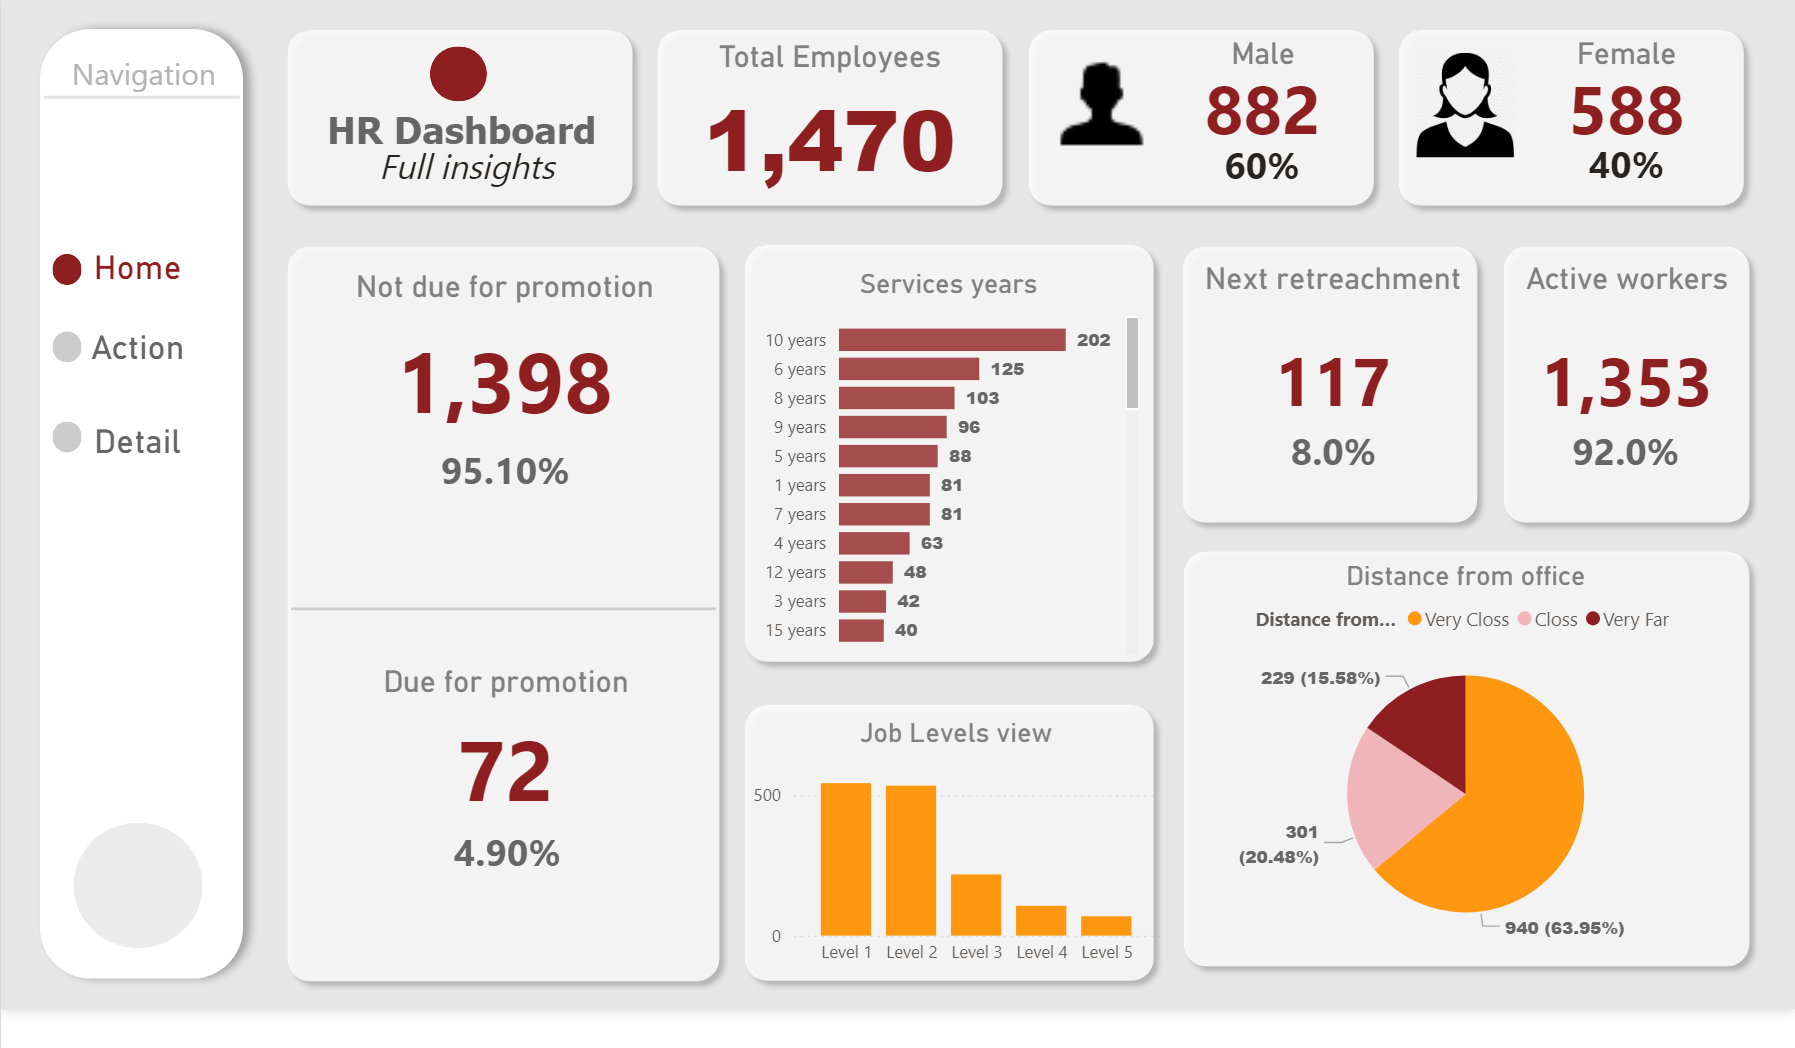

The page's visual inventory and layout, read from the dashboard file:
{"tool":"powerbi","page":{"name":"Home","canvas":[1280,720],"ordinal":0},"visuals":[{"type":"shape","box":[16.5,9.6,166.5,699.2],"z":0},{"type":"shape","box":[195.4,12.4,264.3,143.1],"z":1000},{"type":"shape","box":[459.7,12.4,264.3,143.1],"z":2000},{"type":"shape","box":[724,12.4,264.3,143.1],"z":3000},{"type":"shape","box":[988.2,12.4,264.3,143.1],"z":4000},{"type":"shape","box":[195.4,166.5,326.2,542.3],"z":5000},{"type":"shape","box":[521.6,166.2,309.7,315.2],"z":6000},{"type":"shape","box":[521.6,494.1,309.7,214.7],"z":7000},{"type":"shape","box":[834.8,384.2,421.6,314.1],"z":8000},{"type":"shape","box":[833.6,166.7,228.3,215],"z":9000},{"type":"shape","box":[1063.1,166.7,193.3,215],"z":10000},{"type":"textbox","box":[209.7,71.2,238.7,51.4],"z":11000},{"type":"textbox","box":[36.9,33,130.5,51.4],"z":12000},{"type":"textbox","box":[209.7,97.6,251.9,55.4],"z":13000},{"type":"shape","box":[305.9,33,40.9,39.6],"z":14000},{"type":"card","title":"Total Employees","fields":{"Values":["All Measures.Total Emp"]},"box":[468,27.5,246.4,112.9],"z":15000},{"type":"card","title":"Male","fields":{"Values":["All Measures.Male"]},"box":[814.8,26.2,170.7,75.7],"z":16000},{"type":"card","fields":{"Values":["All Measures.Male %"]},"box":[834.1,90.8,132.1,55.1],"z":17000},{"type":"card","title":"Female","fields":{"Values":["All Measures.Female"]},"box":[1068.7,26.2,183.1,75.7],"z":18000},{"type":"card","fields":{"Values":["All Measures.Female %"]},"box":[1083.9,90.8,152.8,53.7],"z":19000},{"type":"image","box":[736.3,26.2,95,90.8],"z":20000},{"type":"actionButton","title":"Home","box":[27.8,176.4,140.1,30.2],"z":21000},{"type":"image","box":[1004.7,33,79.8,84],"z":22000},{"type":"actionButton","title":"Action","box":[27.7,233.4,139.8,56.7],"z":23000},{"type":"card","title":"Active workers","fields":{"Values":["All Measures.On service"]},"box":[1058.3,186,203,142.6],"z":24000},{"type":"actionButton","title":"Detail","box":[27.7,300.7,139.8,58],"z":25000},{"type":"card","fields":{"Values":["All Measures.% Active workers"]},"box":[1082.4,296,153.4,53.2],"z":26000},{"type":"card","title":"Next retreachment","fields":{"Values":["All Measures.Due for retirment"]},"box":[843.2,186,215,142.6],"z":27000},{"type":"card","fields":{"Values":["All Measures.%Due for retirment"]},"box":[865,296,171.5,53.2],"z":28000},{"type":"columnChart","title":"Job Levels view","fields":{"Category":["HR Analytics Data.Job Level"],"Y":["All Measures.Total Emp"]},"box":[531.3,512,300,185.8],"z":29000},{"type":"barChart","title":"Services years","fields":{"Category":["HR Analytics Data.Total working Years"],"Y":["All Measures.Total Emp"]},"box":[536.4,192.1,280.3,280.3],"z":30000},{"type":"pieChart","title":"Distance from office","fields":{"Category":["HR Analytics Data.Distance from office"],"Y":["All Measures.Total Emp"]},"box":[840.8,399.9,408.3,282.7],"z":31000},{"type":"card","title":"Not due for promotion","fields":{"Values":["All Measures.Not Due"]},"box":[207.8,192.1,303.2,130.5],"z":32000},{"type":"card","title":"Due for promotion","fields":{"Values":["All Measures.Due for promotion"]},"box":[209,473.8,303.2,119.6],"z":33000},{"type":"shape","box":[206.6,427.7,303.2,14.5],"z":34000},{"type":"card","fields":{"Values":["All Measures.% Not due for promotion"]},"box":[283.5,309.7,152.8,53.7],"z":35000},{"type":"card","fields":{"Values":["All Measures.% Due for promotion"]},"box":[285.1,582.5,152.2,53.2],"z":36000},{"type":"shape","box":[36.9,180.7,21.1,22.4],"z":37000},{"type":"shape","box":[36.9,236,21.1,22.4],"z":38000},{"type":"shape","box":[36.9,300.7,21.1,22.4],"z":39000},{"type":"shape","box":[51.4,586.8,92.3,89.7],"z":40000},{"type":"shape","box":[30.2,61.6,140.1,15.7],"z":41000}]}

Visuals, with their boxes on the page's 1280x720 design canvas (x1, y1, x2, y2). These are canvas units, not pixel positions in the 1795x1048 screenshot, which may show the page scaled, cropped or inside an application window:
shape: detection(16, 10, 183, 709)
shape: detection(195, 12, 460, 156)
shape: detection(460, 12, 724, 156)
shape: detection(724, 12, 988, 156)
shape: detection(988, 12, 1252, 156)
shape: detection(195, 166, 522, 709)
shape: detection(522, 166, 831, 481)
shape: detection(522, 494, 831, 709)
shape: detection(835, 384, 1256, 698)
shape: detection(834, 167, 1062, 382)
shape: detection(1063, 167, 1256, 382)
textbox: detection(210, 71, 448, 123)
textbox: detection(37, 33, 167, 84)
textbox: detection(210, 98, 462, 153)
shape: detection(306, 33, 347, 73)
"Total Employees" card: detection(468, 28, 714, 140)
"Male" card: detection(815, 26, 986, 102)
card - All Measures.Male %: detection(834, 91, 966, 146)
"Female" card: detection(1069, 26, 1252, 102)
card - All Measures.Female %: detection(1084, 91, 1237, 144)
image: detection(736, 26, 831, 117)
"Home" actionButton: detection(28, 176, 168, 207)
image: detection(1005, 33, 1084, 117)
"Action" actionButton: detection(28, 233, 168, 290)
"Active workers" card: detection(1058, 186, 1261, 329)
"Detail" actionButton: detection(28, 301, 168, 359)
card - All Measures.% Active workers: detection(1082, 296, 1236, 349)
"Next retreachment" card: detection(843, 186, 1058, 329)
card - All Measures.%Due for retirment: detection(865, 296, 1036, 349)
"Job Levels view" columnChart: detection(531, 512, 831, 698)
"Services years" barChart: detection(536, 192, 817, 472)
"Distance from office" pieChart: detection(841, 400, 1249, 683)
"Not due for promotion" card: detection(208, 192, 511, 323)
"Due for promotion" card: detection(209, 474, 512, 593)
shape: detection(207, 428, 510, 442)
card - All Measures.% Not due for promotion: detection(284, 310, 436, 363)
card - All Measures.% Due for promotion: detection(285, 582, 437, 636)
shape: detection(37, 181, 58, 203)
shape: detection(37, 236, 58, 258)
shape: detection(37, 301, 58, 323)
shape: detection(51, 587, 144, 676)
shape: detection(30, 62, 170, 77)
